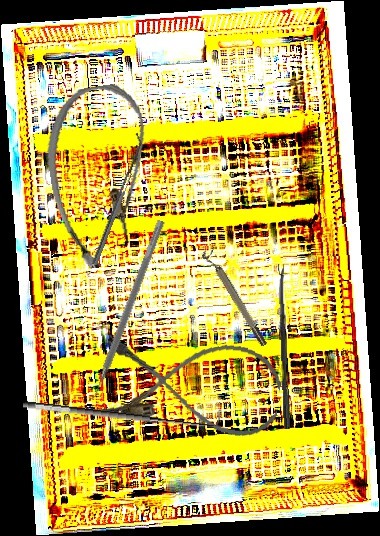Cannula: (37, 80, 165, 273), (97, 328, 286, 441)
Fixation Ring: (200, 245, 269, 351)
Hook Surgical: (22, 385, 222, 435)
Spatula Surgical: (82, 216, 166, 405), (86, 132, 147, 266)
Surgical Spoon: (278, 263, 291, 430)
